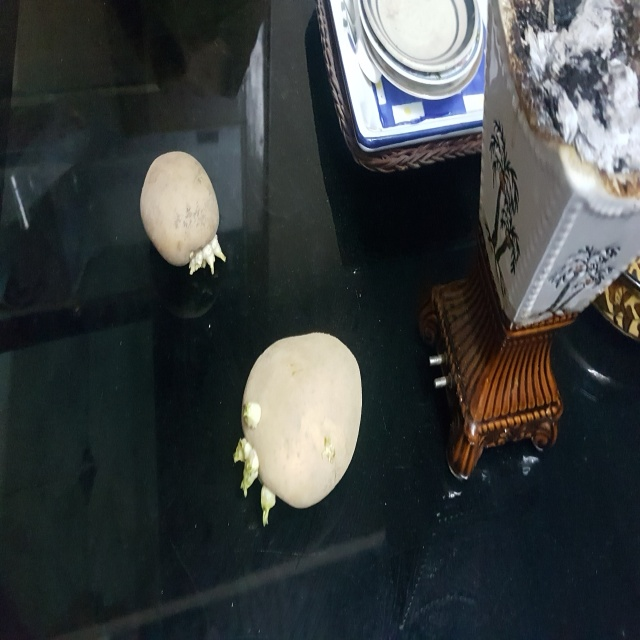potato: (229, 325, 363, 525), (140, 152, 241, 277)
